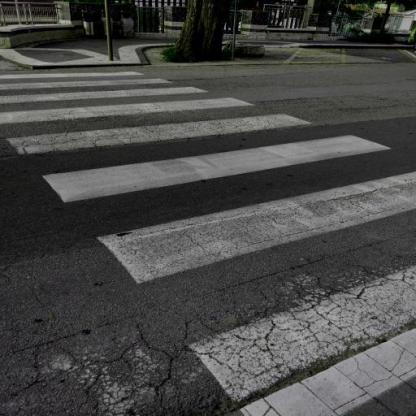crosswalk: (4, 106, 397, 211)
